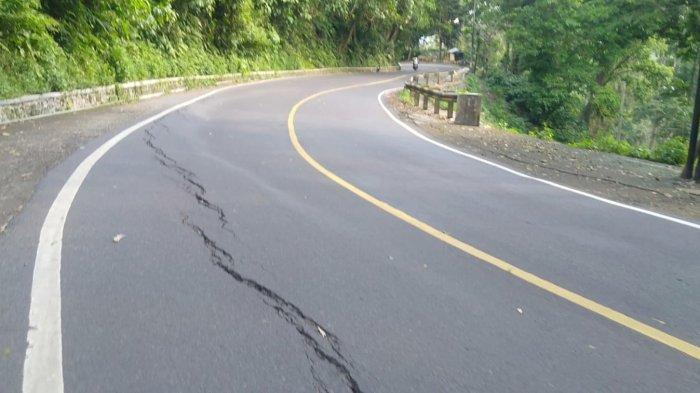Crack: (149, 120, 360, 337)
